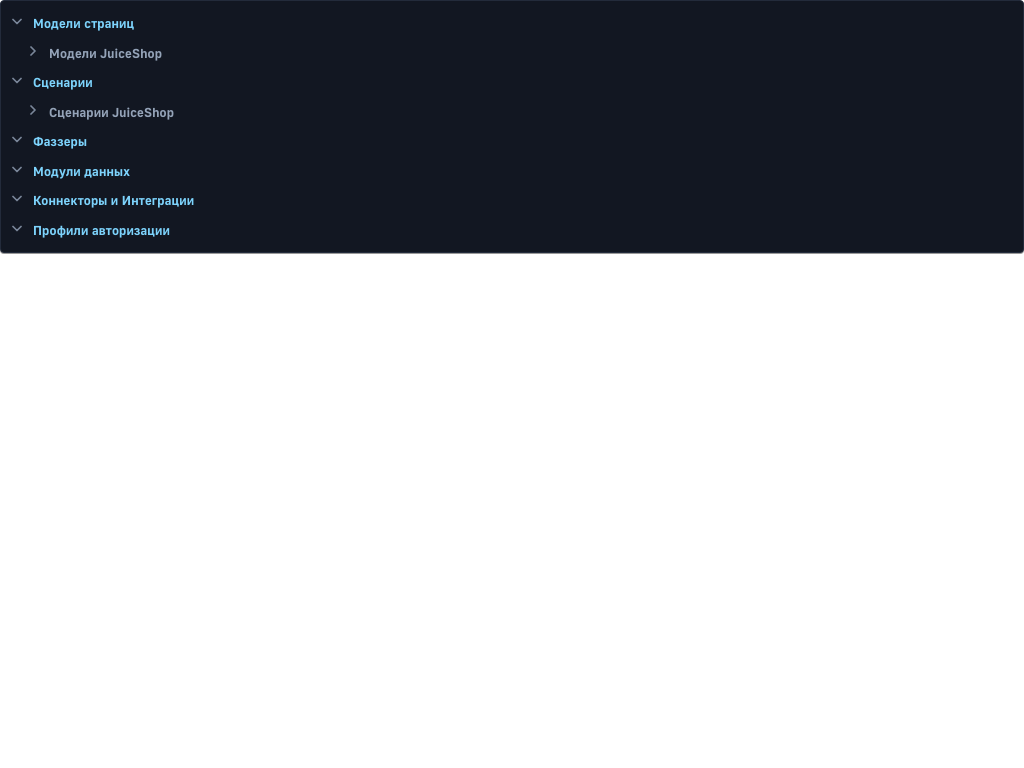
Scenario: StudioBlocksTree folders › открывает модалку создания сценария из папки
This screenshot has width=1024, height=768.
Right-click the text "Сценарии JuiceShop": [112, 112] box [49, 104, 174, 120]
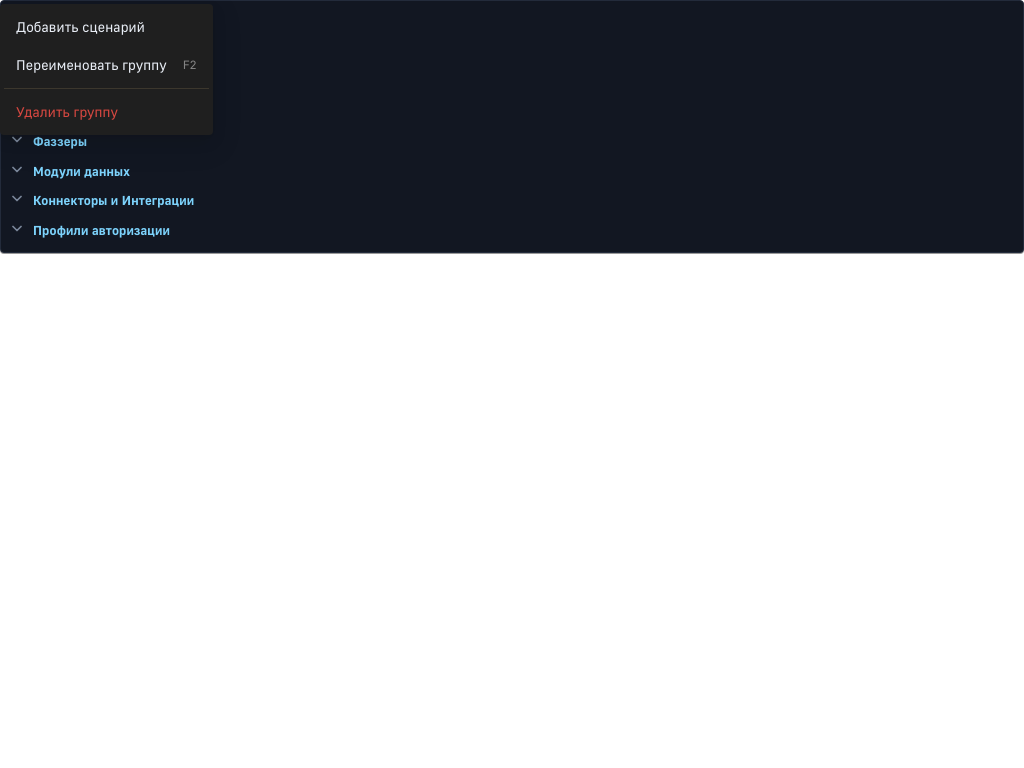
Click the menu item "Добавить сценарий": [80, 26] box [16, 18, 145, 35]
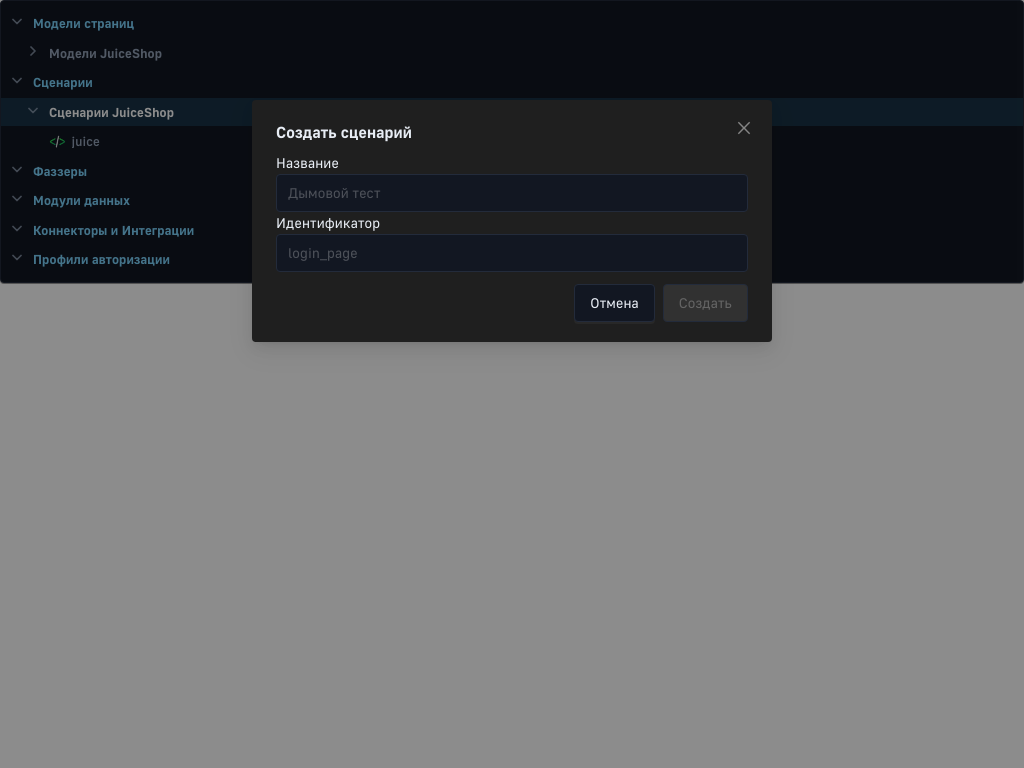
Result: the field with placeholder "Дымовой тест" is shown at [276, 174, 748, 212]
